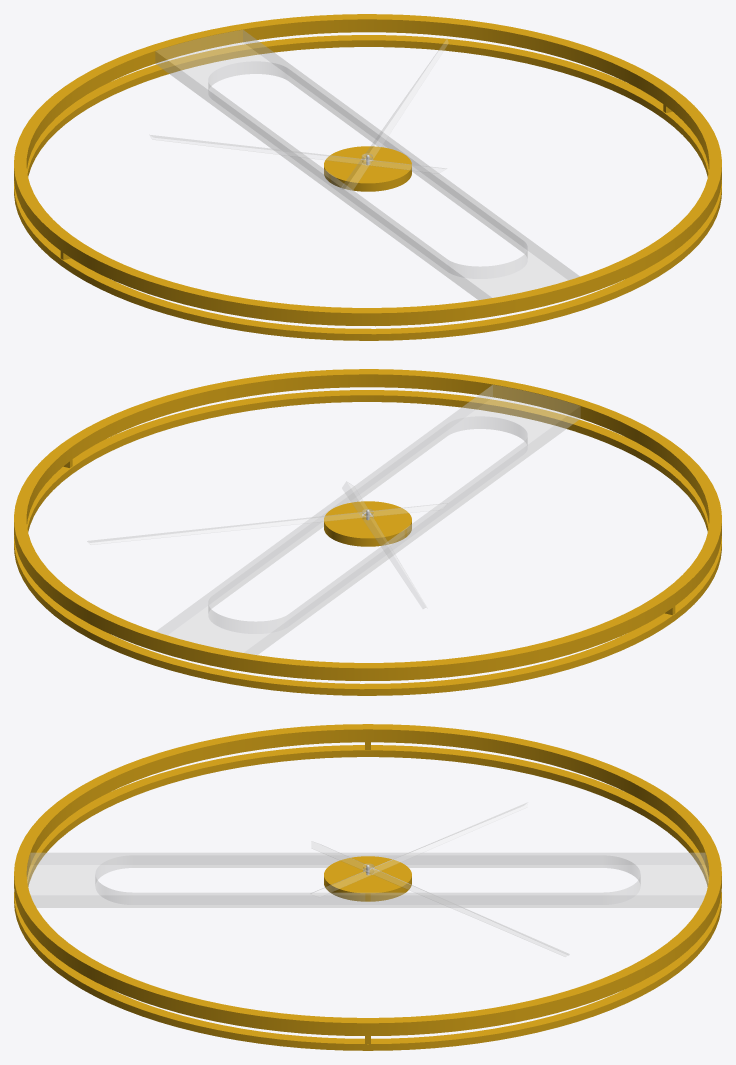
Rendered from beyzi.glb.
3 renders of one model, top to bottom at view 1: azimuth 30°, elevation 25°; view 2: azimuth 150°, elevation 25°; view 3: azimuth 270°, elevation 25°, orthographic.
Visible parts, largest first — view 1: frame, frame 2, Beizi, Motor, hand copy, hand copy.002; view 2: frame, frame 2, Beizi, Motor, hand copy.002, hand copy; view 3: frame, Beizi, frame 2, Motor, hand copy.002, hand copy.
Boxes of the visible parts, x1=… form: frame: x1=14, y1=14, x2=721, y2=326; frame 2: x1=14, y1=35, x2=721, y2=340; Beizi: x1=155, y1=30, x2=579, y2=299; Motor: x1=324, y1=146, x2=411, y2=191; hand copy: x1=150, y1=135, x2=446, y2=173; hand copy.002: x1=341, y1=39, x2=448, y2=190; frame: x1=14, y1=369, x2=721, y2=681; frame 2: x1=14, y1=390, x2=721, y2=695; Beizi: x1=156, y1=385, x2=580, y2=654; Motor: x1=324, y1=501, x2=411, y2=546; hand copy.002: x1=87, y1=503, x2=447, y2=544; hand copy: x1=342, y1=481, x2=426, y2=608; frame: x1=14, y1=724, x2=721, y2=1035; Beizi: x1=27, y1=853, x2=708, y2=907; frame 2: x1=14, y1=745, x2=721, y2=1050; Motor: x1=324, y1=856, x2=411, y2=901; hand copy.002: x1=311, y1=841, x2=569, y2=956; hand copy: x1=311, y1=802, x2=527, y2=896.
Size of the model in its own units: 3.63 by 0.2041 by 3.63.
